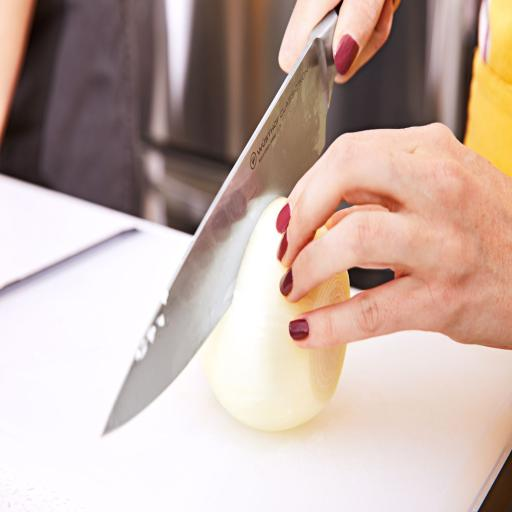knife: (86, 32, 333, 445)
